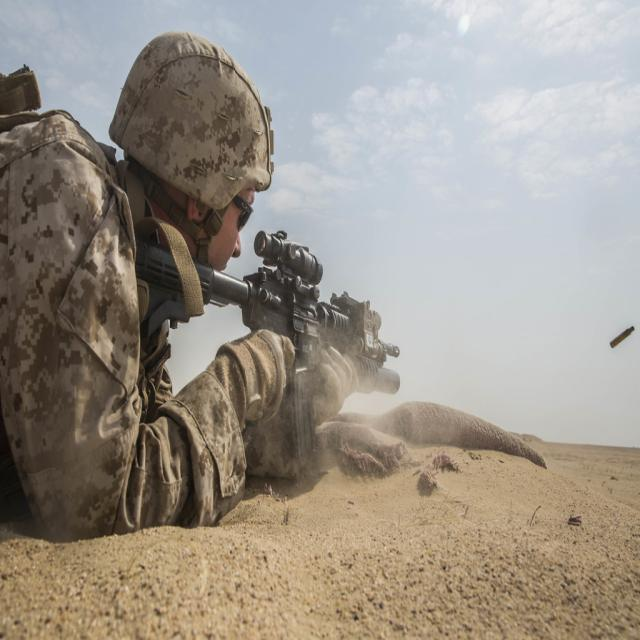Weapon: (134, 175, 420, 490)
